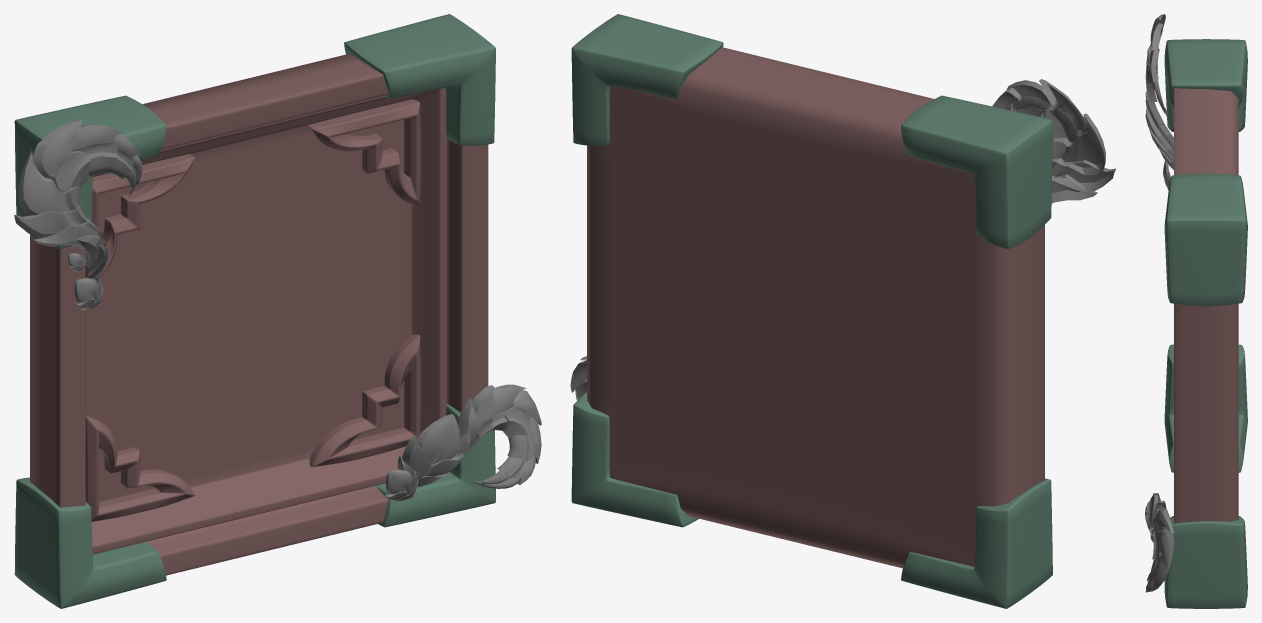
File: Puzzle board UI Modeling Low.fbx
The picture shows the model from 3 angles, left to right: view 1: azimuth 30°, elevation 25°; view 2: azimuth 150°, elevation 25°; view 3: azimuth 270°, elevation 25°; orthographic projection. The views are drawn at different scales.
Visible parts, largest first — view 1: Object010; view 2: Object010; view 3: Object010.
Part boxes in pixels (x1,y1,x2,y2): Object010: (14,14,541,608); Object010: (570,14,1116,608); Object010: (1145,14,1247,608).
Bounding box in the file's own units: 691 × 606 × 136.
